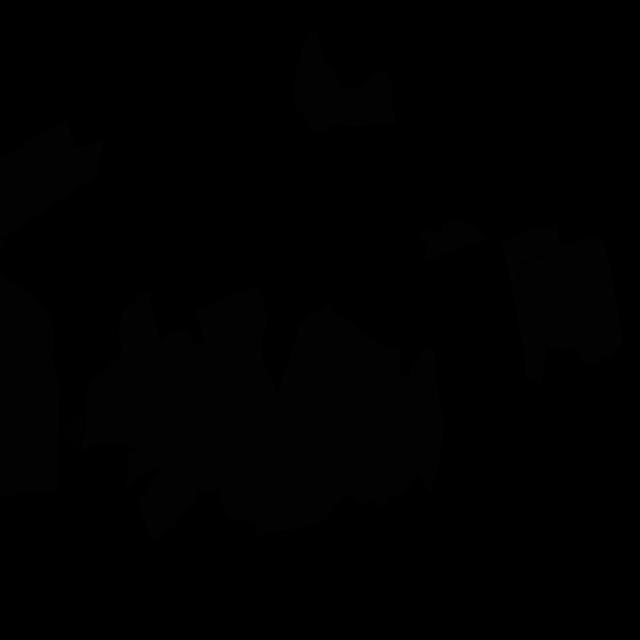cardboard: (81, 301, 444, 537), (0, 270, 60, 497), (518, 237, 623, 365), (0, 118, 104, 247), (294, 29, 396, 134), (501, 222, 560, 385), (194, 285, 275, 393), (135, 471, 218, 540), (420, 218, 490, 263), (119, 292, 161, 356), (125, 452, 159, 487)
rigid_plastic: (65, 414, 85, 450)
